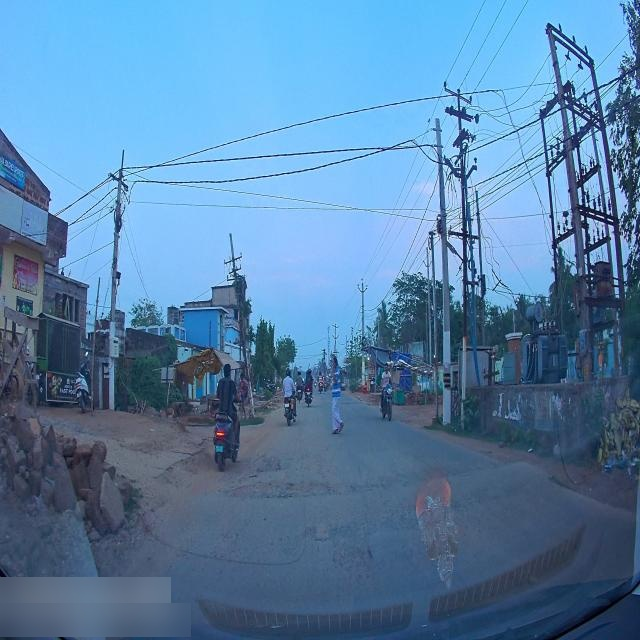pothole: (224, 482, 340, 502), (330, 532, 377, 580), (252, 457, 283, 479), (344, 481, 377, 495)
